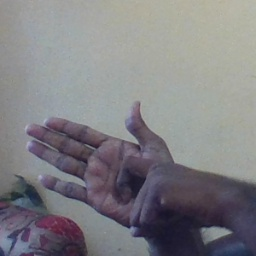R: (20, 97, 198, 240)
